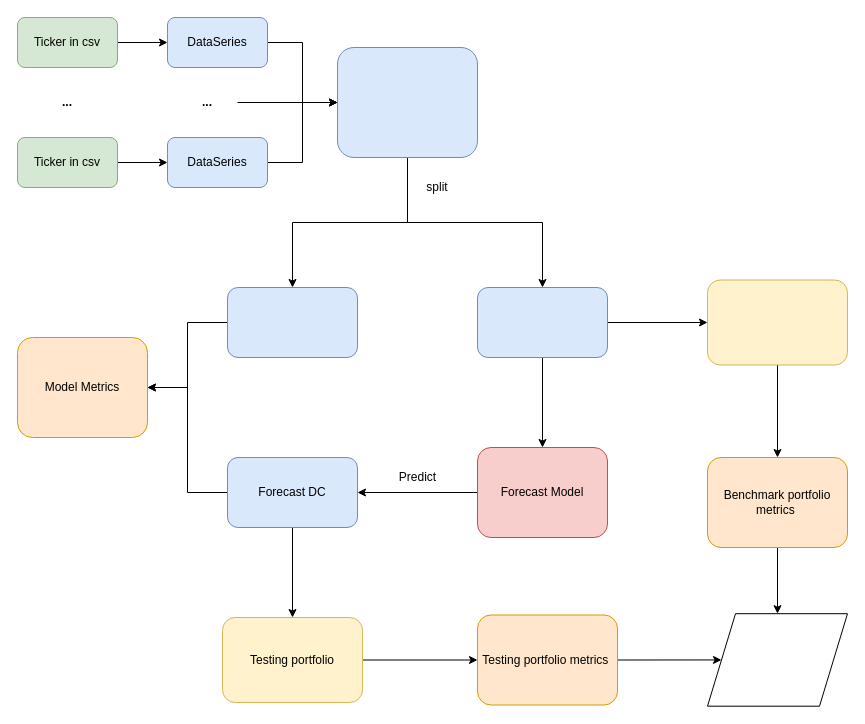
The diagram is 865 pixels wide and 724 high, and some of its shapes have lost their labels. The shapes that lost their labels are listed below. From the top down, each one's box as (x1, y1, x2, y2) in pixels, then its label:
(336, 46, 478, 158): DataCollection
(226, 286, 358, 358): Testing DC
(476, 286, 608, 358): Training DC
(706, 279, 848, 365): Benchmark portfolio
(706, 613, 848, 706): Comparison & Visualization
